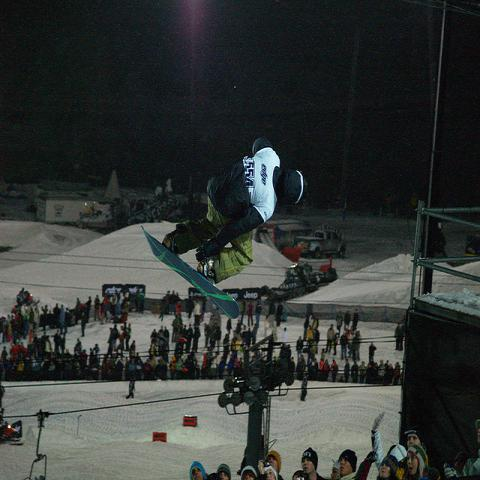truck: (44, 195, 112, 226), (279, 262, 326, 300), (293, 228, 347, 260)
